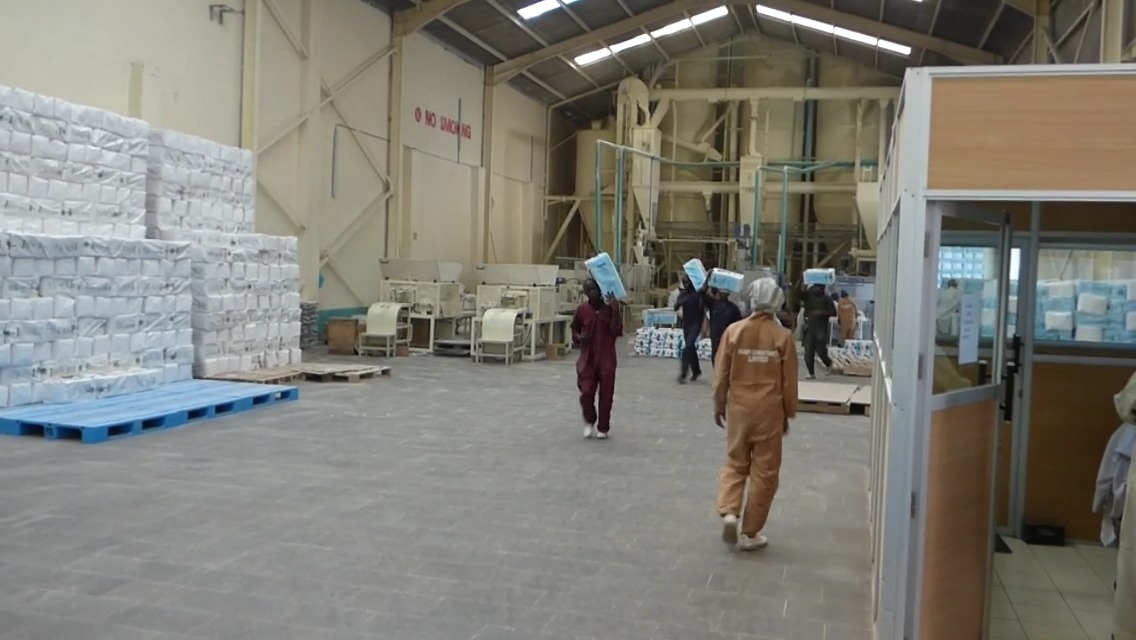wheat_flour_blue_label: (586, 254, 623, 301)
